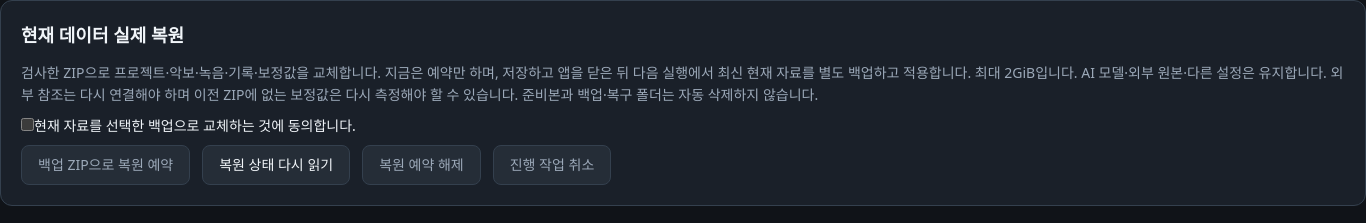
Test: 현재 자료 교체 동의와 상태 조회 뒤에만 예약할 수 있다
Expected: the button "백업 ZIP으로 복원 예약" is disabled, [21,145,190,185]
Click the checkbox at (28, 124), box [21,118,34,131]
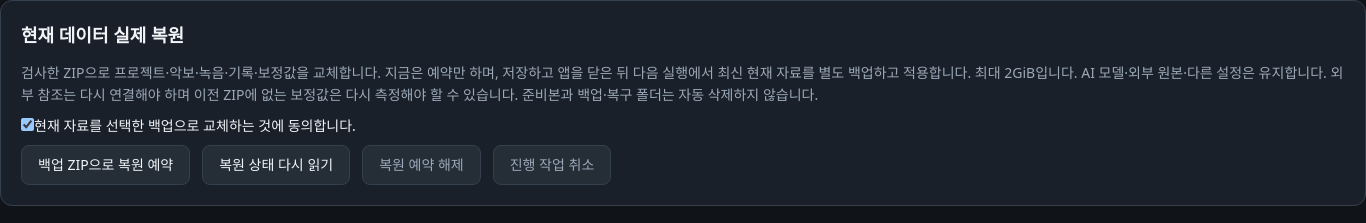
Now the button "백업 ZIP으로 복원 예약" is enabled, box [21,145,190,185]
